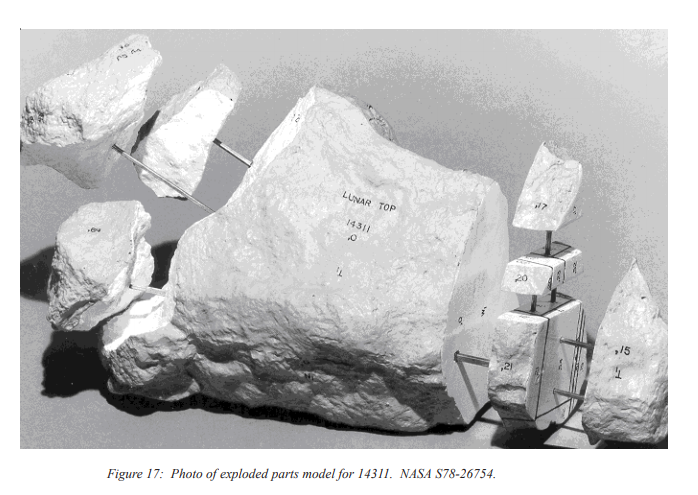Breccia: (133, 117, 486, 375), (21, 24, 123, 183), (153, 67, 215, 208), (73, 202, 137, 335), (504, 305, 574, 425), (588, 271, 631, 428), (508, 135, 544, 232), (505, 255, 563, 295), (622, 257, 627, 372)
